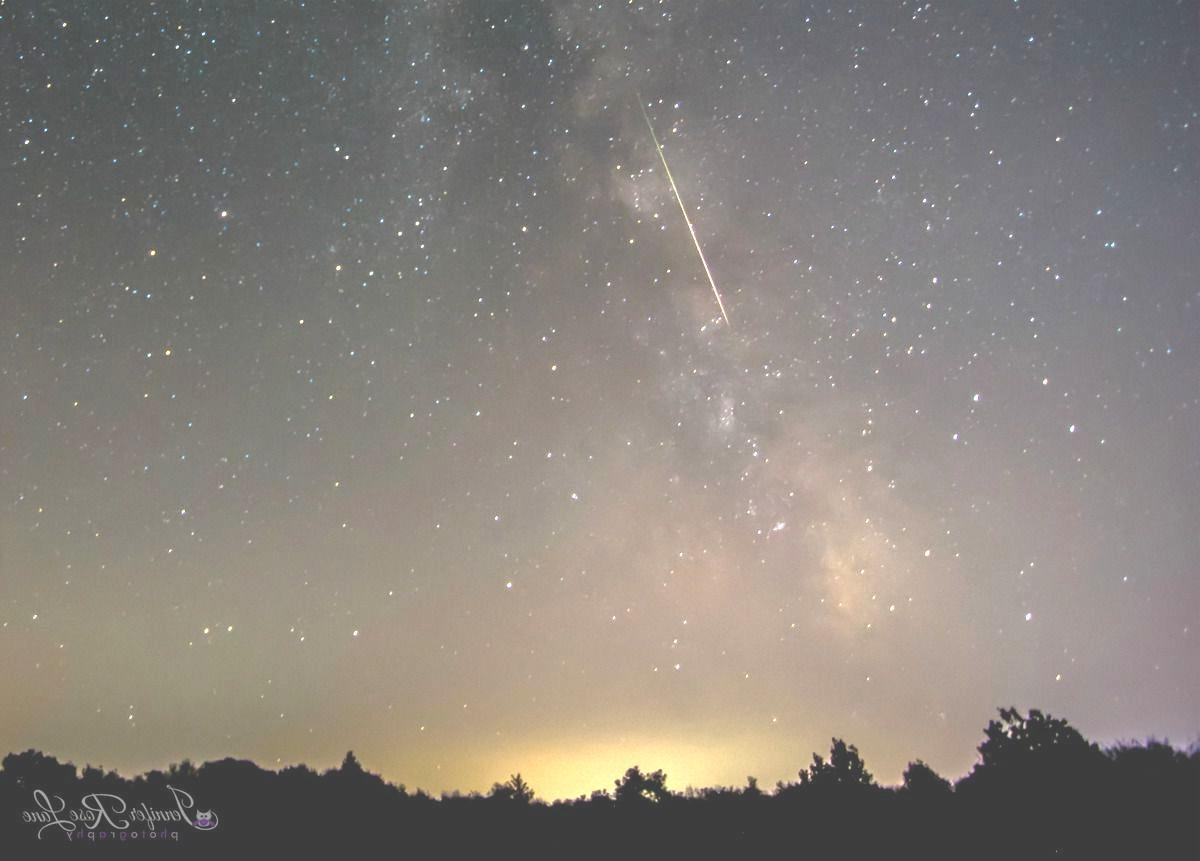meteorite: (631, 96, 763, 333)
